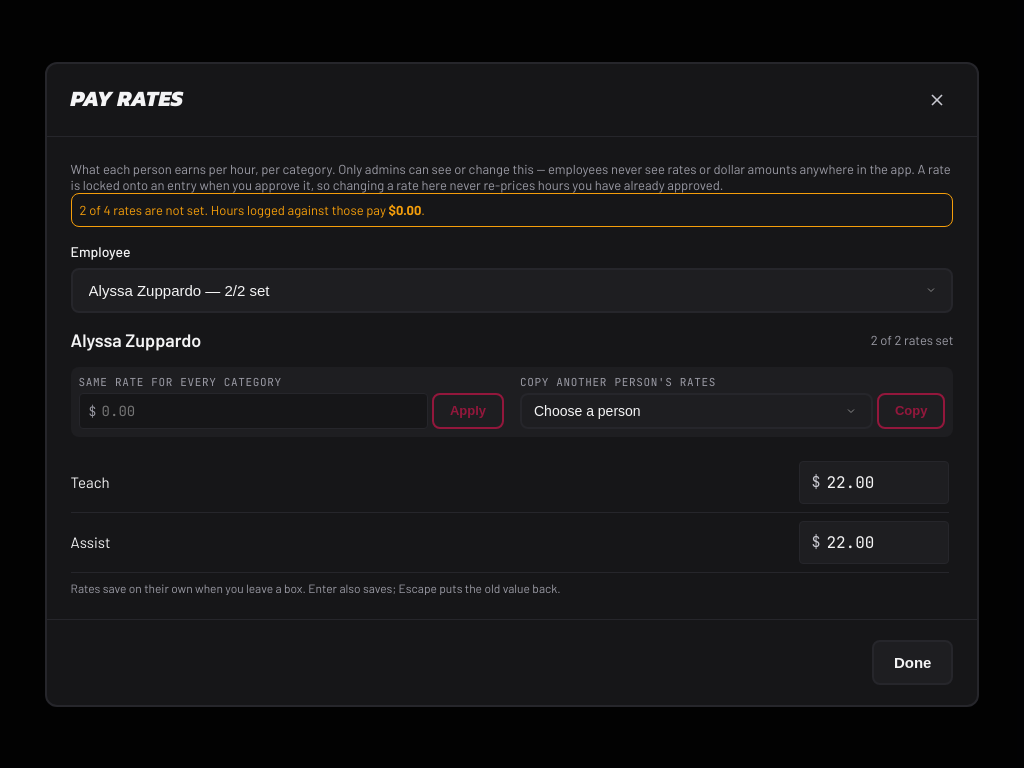
Scenario: phone › replaces the person list with a dropdown that still switches the form
The image size is (1024, 768).
Select "Amy M — not set" in the dropdown labelled "Employee" at coordinates (512, 290), box [71,268,953,312]
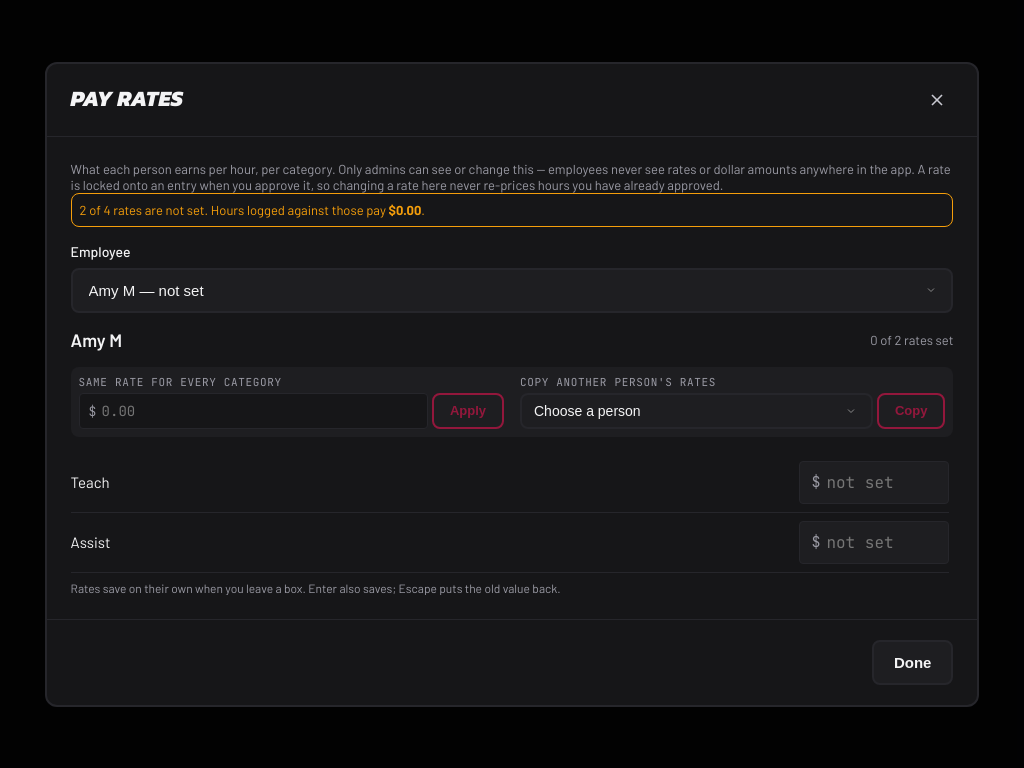
Expected: the text "0 of 2 rates set" is shown, [870,332,953,348]
Expected: the number field labelled "Teach" is not empty, [799,460,949,504]
